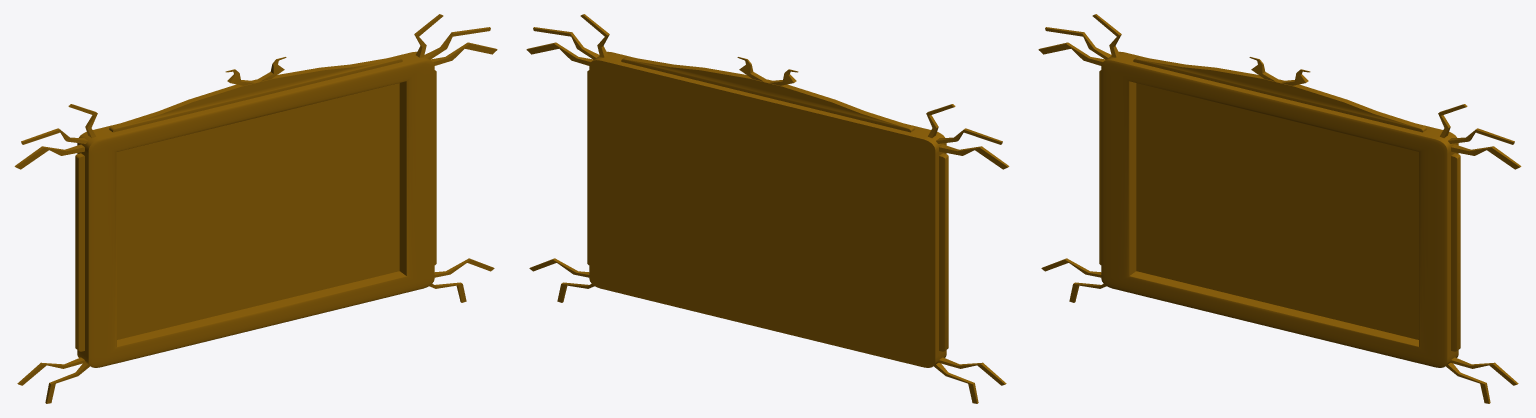
The model's file is Painting2.fbx.
The picture shows the model from 3 angles, left to right: view 1: azimuth 30°, elevation 25°; view 2: azimuth 150°, elevation 25°; view 3: azimuth 330°, elevation 25°; orthographic projection.
Parts seen in each view (by area): view 1: Painting2; view 2: Painting2; view 3: Painting2.
Part boxes in pixels (bbox=[...]): Painting2: bbox=[14, 14, 497, 403]; Painting2: bbox=[526, 14, 1009, 403]; Painting2: bbox=[1038, 14, 1521, 403].
Size of the model in its own units: 2.24 by 1.3 by 0.0954.
